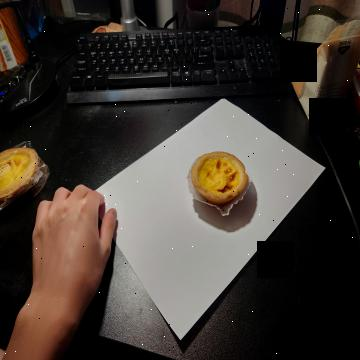EggTart: (191, 149, 249, 205)
